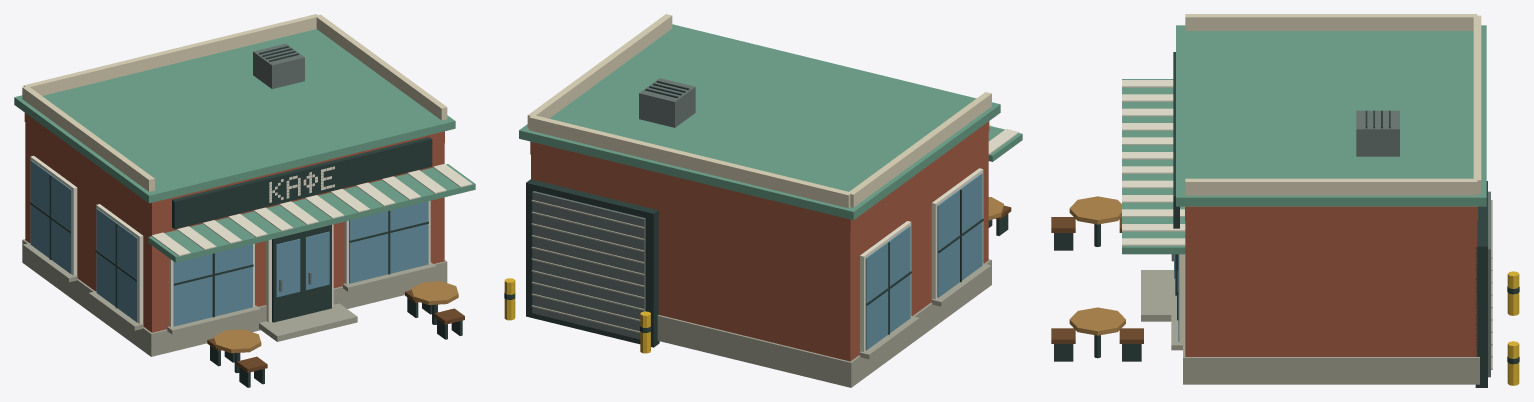
Rendered from Cafe.obj.
The picture shows the model from 3 angles, left to right: view 1: azimuth 30°, elevation 25°; view 2: azimuth 150°, elevation 25°; view 3: azimuth 270°, elevation 25°; orthographic projection. The views are drawn at different scales.
Parts seen in each view (by area): view 1: Cafe; view 2: Cafe; view 3: Cafe.
Boxes of the visible parts, x1,y1,x2,y2 form: Cafe: (14, 14, 475, 387); Cafe: (504, 14, 1022, 387); Cafe: (1051, 14, 1519, 387).
Bounding box in the file's own units: 8.49 × 5.06 × 9.62.
